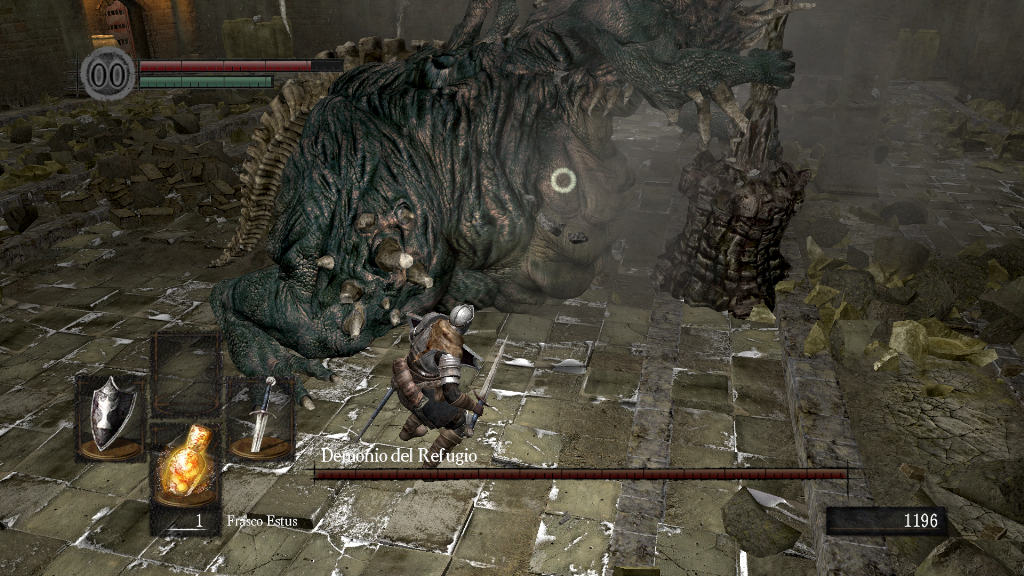asylumDemon: (210, 1, 816, 418)
bossHP: (314, 469, 847, 479)
health: (138, 58, 343, 71)
humanity: (80, 45, 136, 102)
player: (392, 300, 509, 467)
souls: (825, 506, 945, 536)
stamina: (138, 74, 274, 88)
